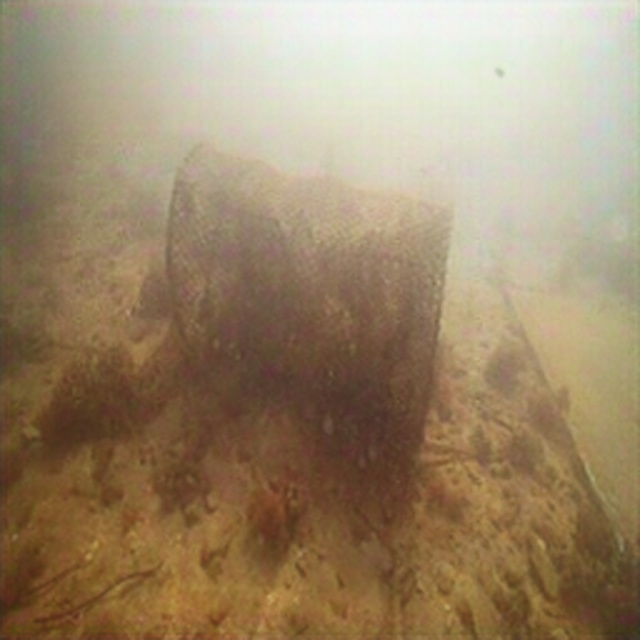mine: (164, 136, 457, 443)
